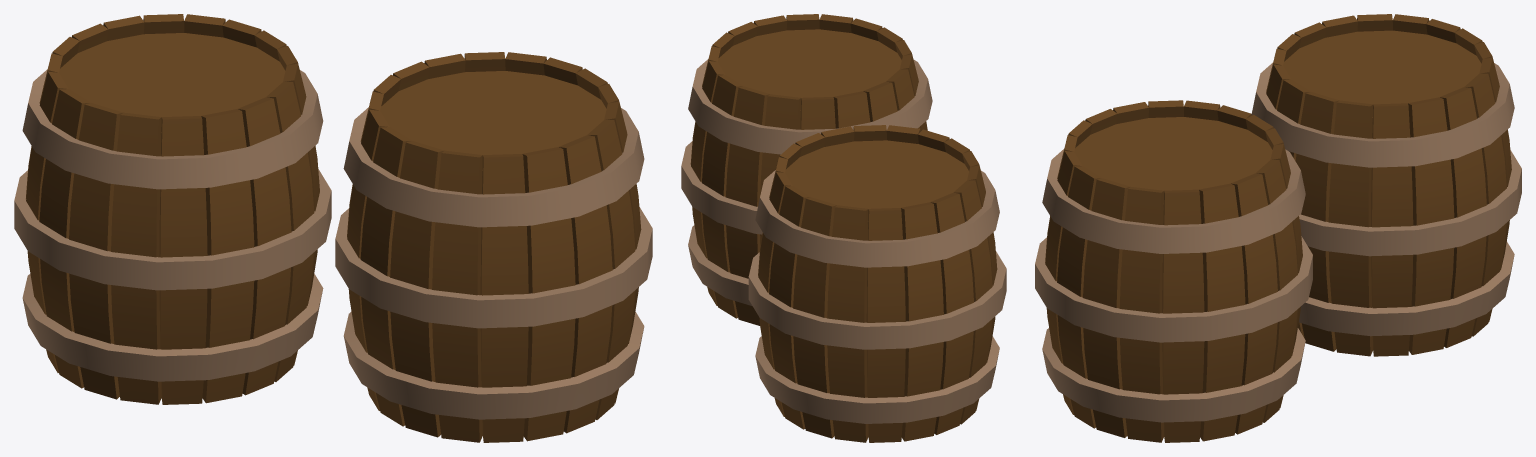
File: barrel_wood_001.fbx
3 views of the same model, side by side, from view 1: azimuth 30°, elevation 25°; view 2: azimuth 150°, elevation 25°; view 3: azimuth 270°, elevation 25° (orthographic). The views are drawn at different scales.
Parts seen in each view (by area): view 1: barrel wood; view 2: barrel wood; view 3: barrel wood.
Part boxes in pixels (x1=…): barrel wood: x1=14, y1=14, x2=652, y2=442; barrel wood: x1=681, y1=14, x2=1006, y2=442; barrel wood: x1=1035, y1=14, x2=1521, y2=442.
Size of the model in its own units: 1.84 by 1.05 by 1.86.
